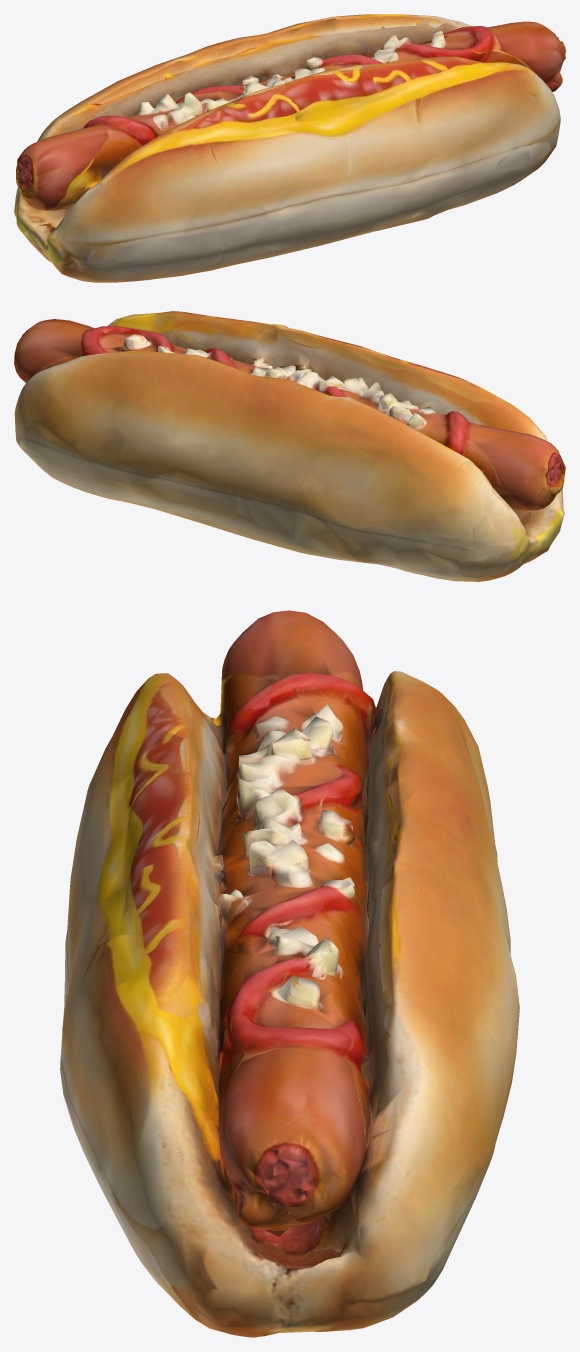
Rendered from hotdog.glb.
3 views of the same model, one above another, from view 1: azimuth 30°, elevation 25°; view 2: azimuth 150°, elevation 25°; view 3: azimuth 270°, elevation 25° (orthographic). The views are drawn at different scales.
Bounding box in the file's own units: 0.1799 × 0.0554 × 0.0668.
Materials: 1 (1 with a texture image).
